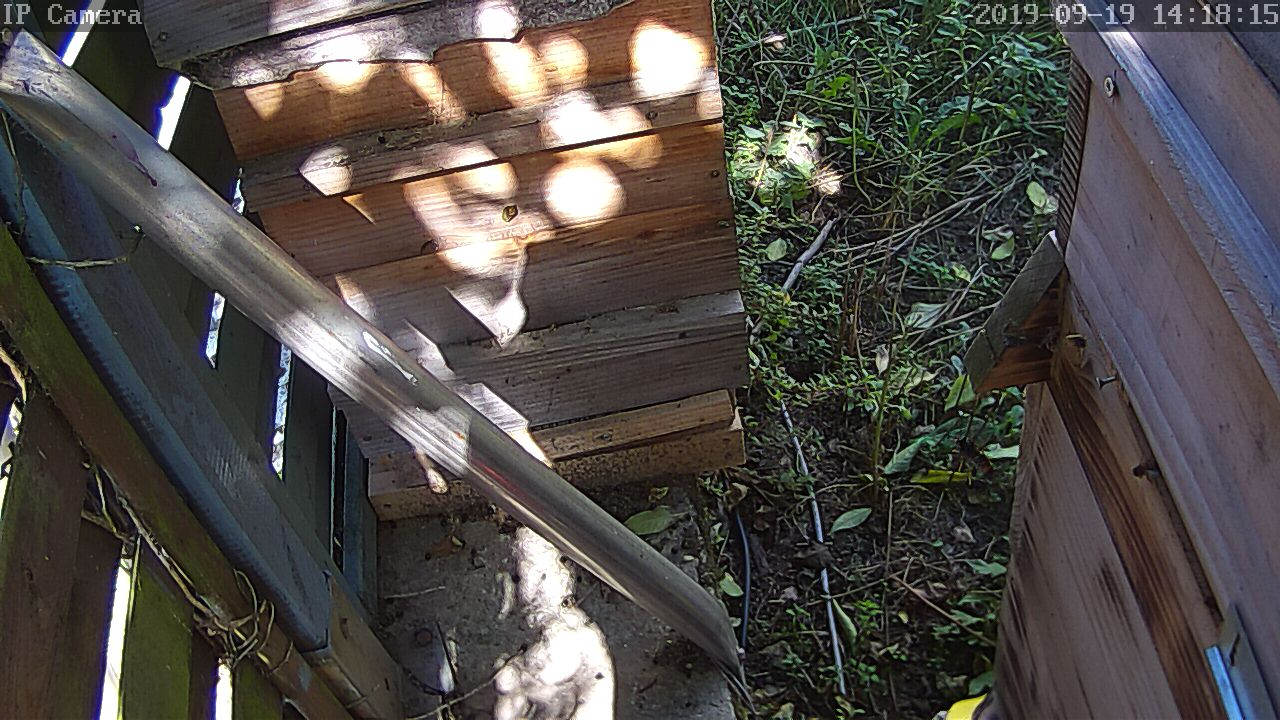bee: (1123, 447, 1165, 486)
hornet: (948, 429, 1001, 486)
